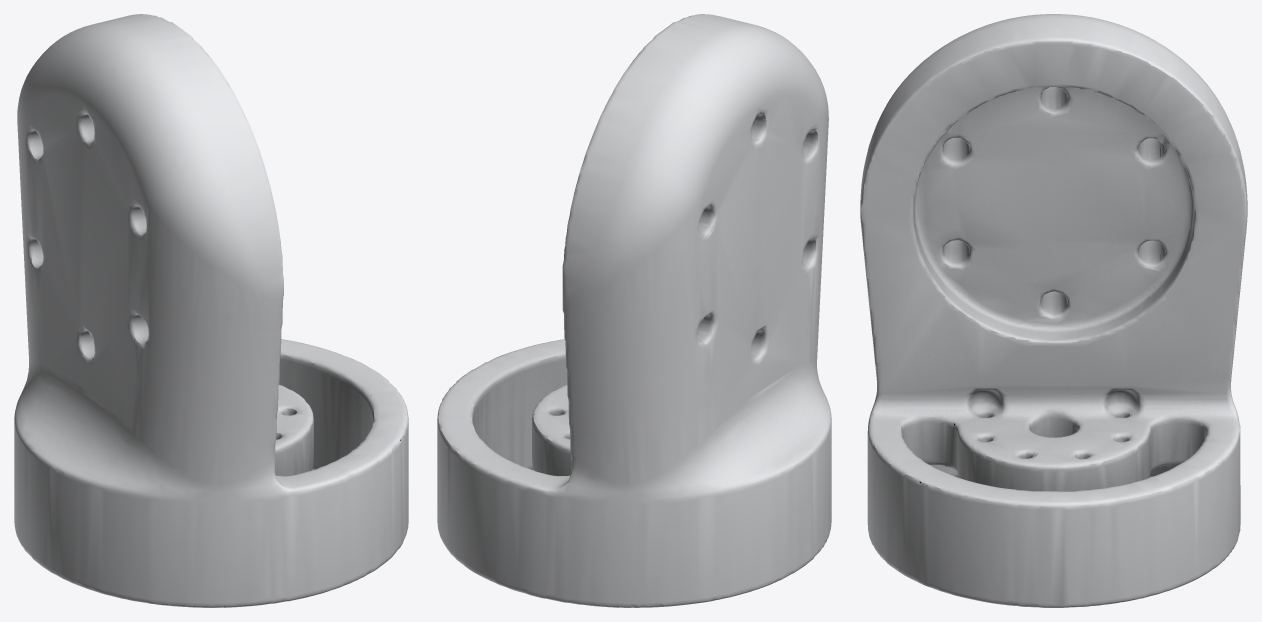
File: left_S_to_Bisecp.glb
The picture shows the model from 3 angles, left to right: view 1: azimuth 30°, elevation 25°; view 2: azimuth 150°, elevation 25°; view 3: azimuth 270°, elevation 25°; orthographic projection. The views are drawn at different scales.
Visible parts, largest first — view 1: left_S_to_Bisecp; view 2: left_S_to_Bisecp; view 3: left_S_to_Bisecp.
Part boxes in pixels (bbox=[...]): left_S_to_Bisecp: bbox=[14, 14, 408, 607]; left_S_to_Bisecp: bbox=[437, 14, 831, 607]; left_S_to_Bisecp: bbox=[860, 14, 1247, 607].
Size of the model in its own units: 0.0644 by 0.0912 by 0.0669.
1 material, 1 textured.
